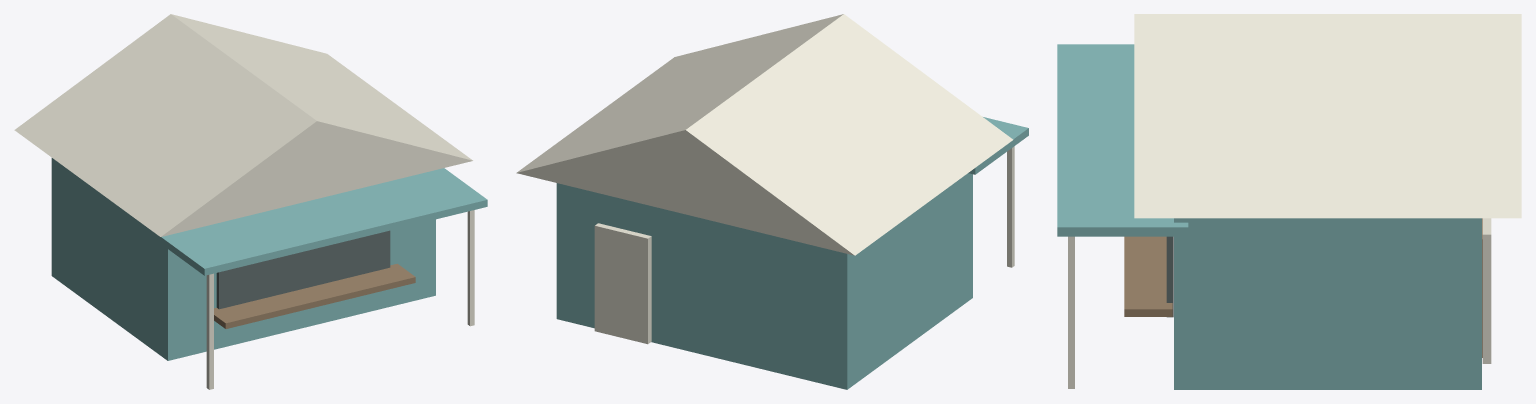
The picture shows the model from 3 angles, left to right: view 1: azimuth 30°, elevation 25°; view 2: azimuth 150°, elevation 25°; view 3: azimuth 270°, elevation 25°; orthographic projection. The views are drawn at different scales.
Bounding box in the file's own units: 8.4 × 5.6 × 8.15.
